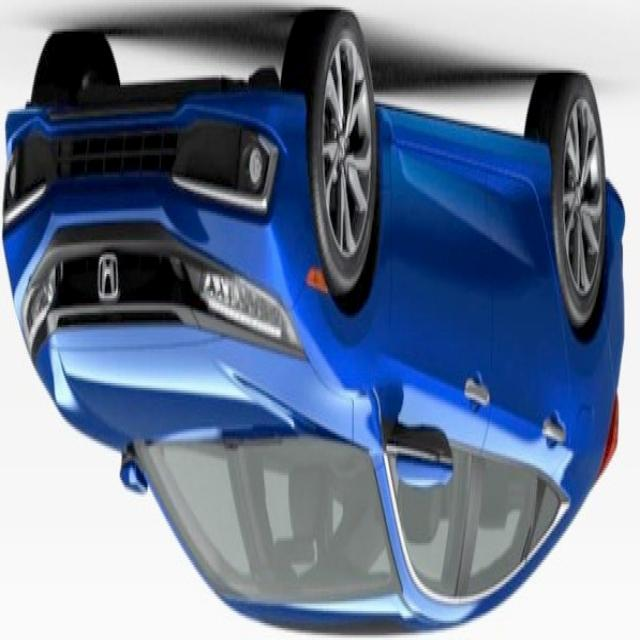blue: (4, 15, 626, 636)
